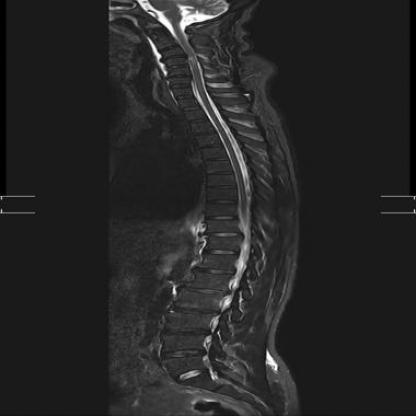Annular Tearrotation: (161, 345, 204, 360)
Disc Bulgerotation: (168, 304, 215, 319), (159, 325, 208, 339), (160, 346, 202, 362)
Disc Protrusionrotation: (180, 281, 227, 296), (158, 49, 184, 63)
